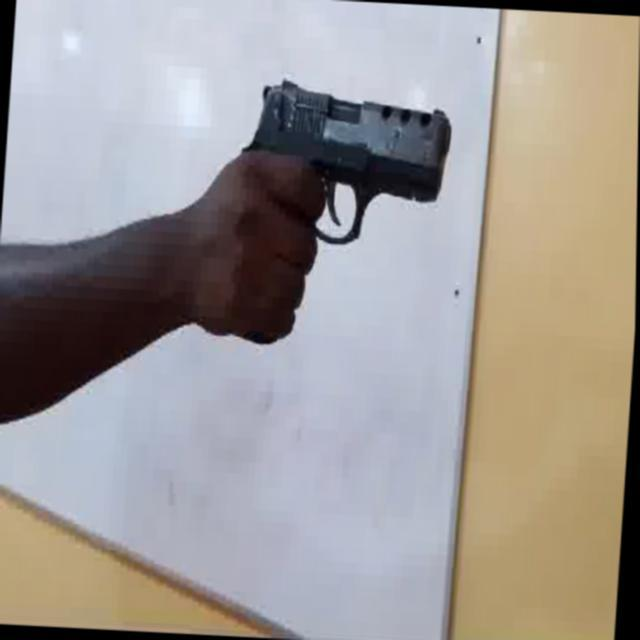weapon: (230, 74, 455, 260)
